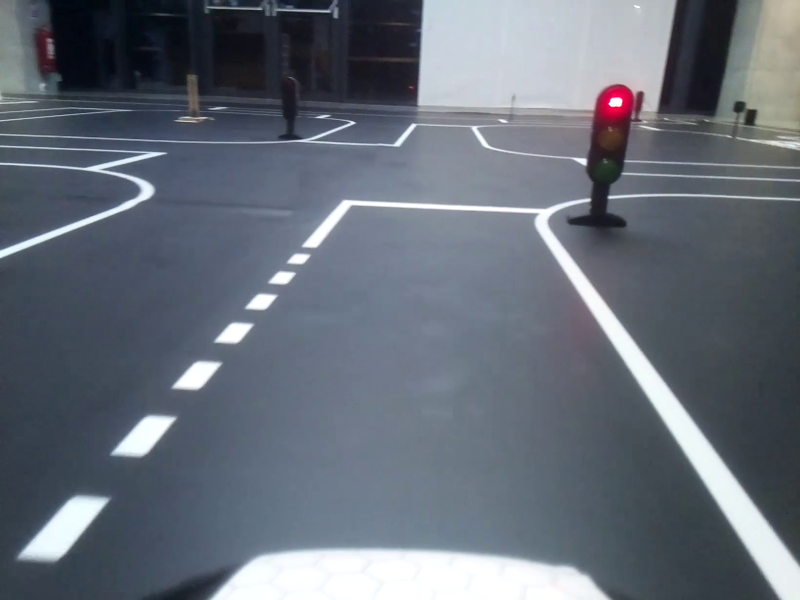traffic_red: (592, 83, 635, 186)
